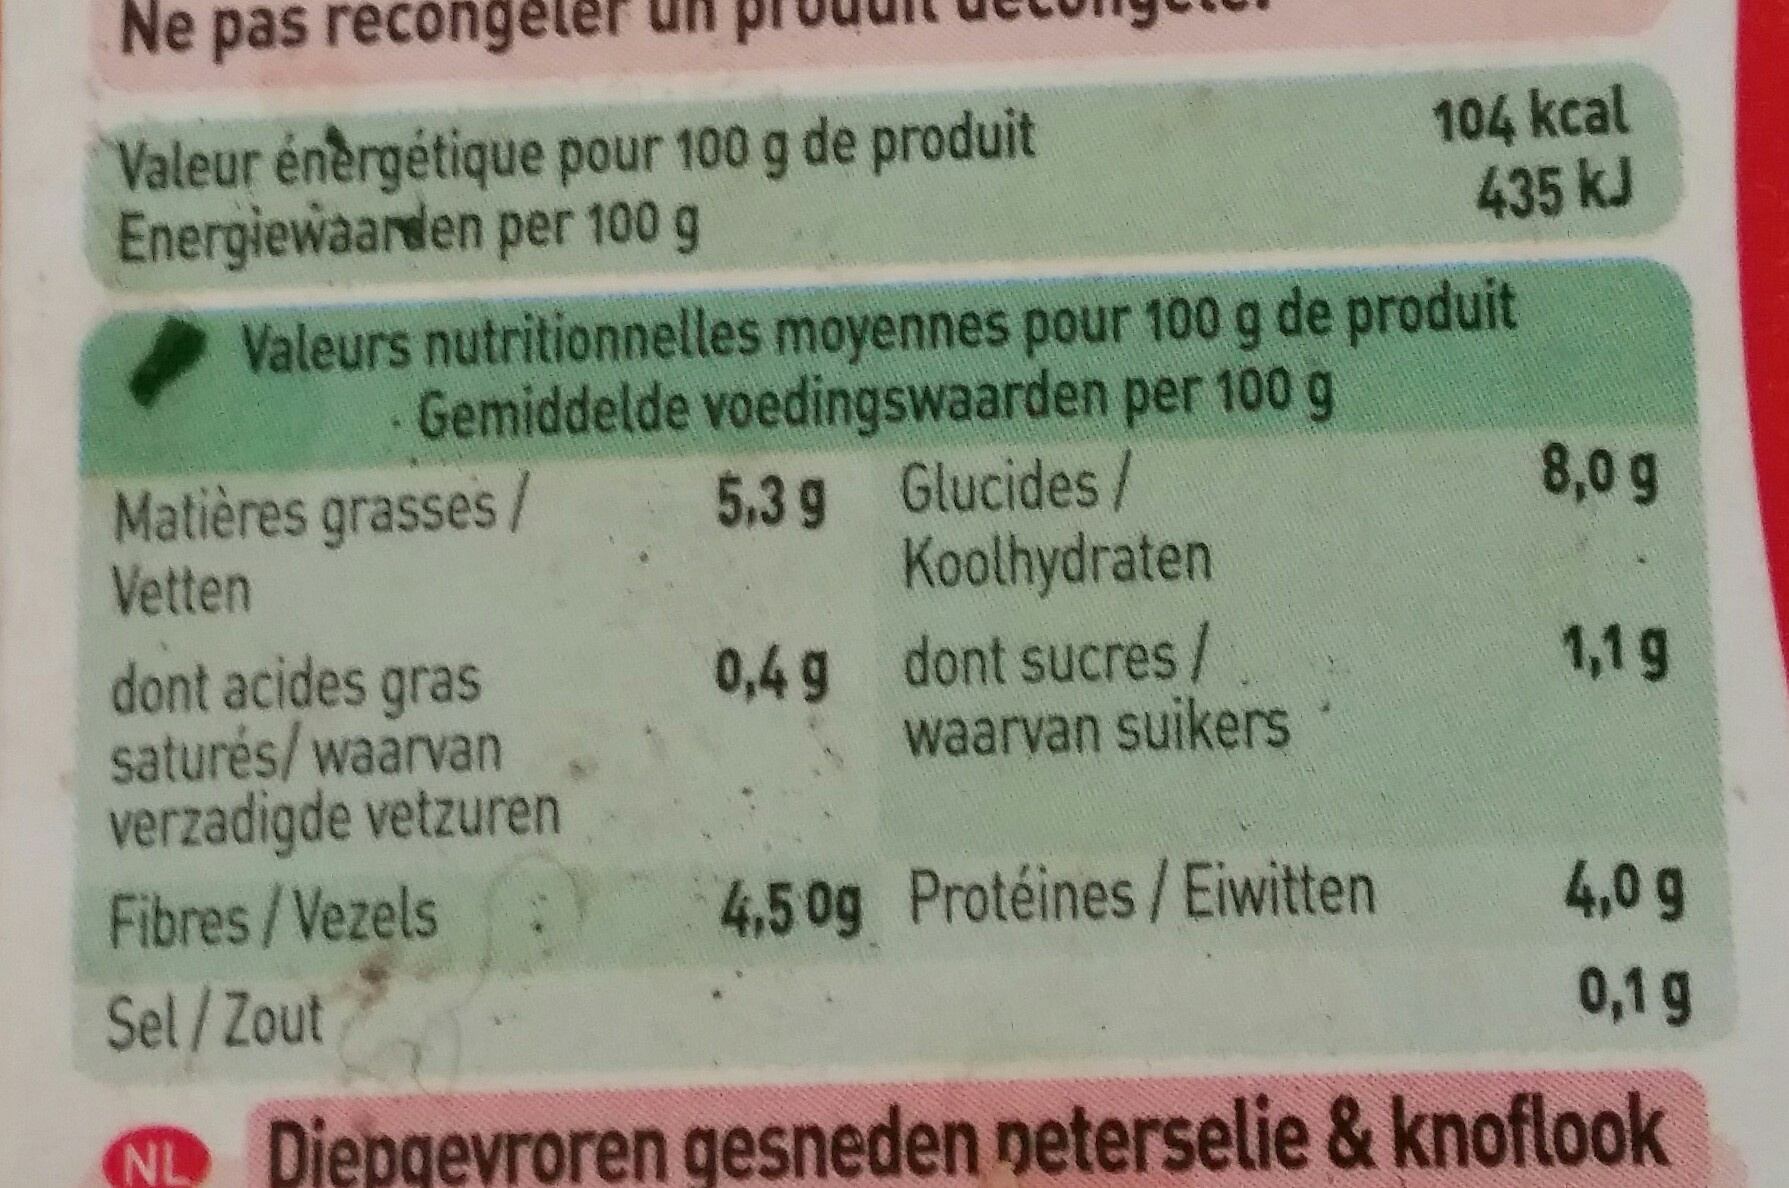column: (894, 448, 1383, 1047), (99, 469, 562, 1055), (1539, 430, 1694, 1051), (709, 461, 864, 1053)
table: (73, 269, 1716, 1058)
